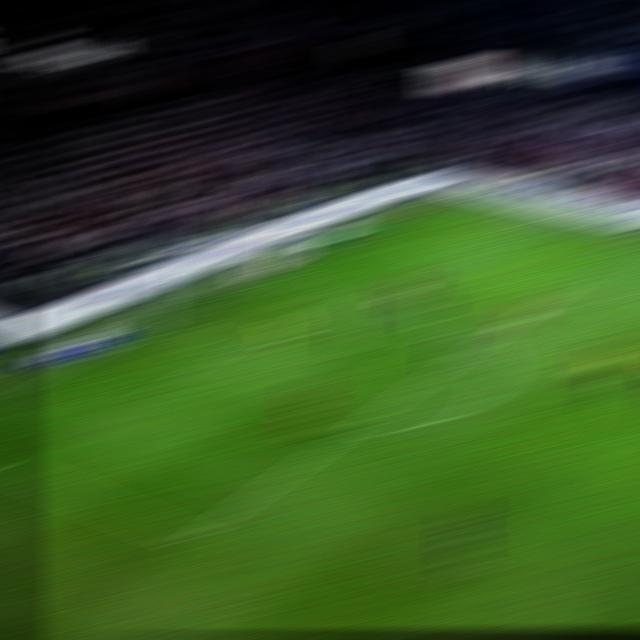bigarea_bottom_inner: (170, 525, 214, 551)
bigarea_top_inner: (545, 276, 588, 297)
bigarea_top_outter: (344, 232, 382, 242)
bottom_arc_area_intersection: (330, 419, 372, 441)
corner: (428, 193, 468, 203)
smallarea_bottom_inner: (141, 374, 182, 395)
smallarea_bottom_outter: (68, 355, 106, 367)
smallarea_top_inner: (321, 287, 360, 301)
smallarea_top_outter: (257, 268, 297, 283)
top_arc_area_intersection: (460, 333, 500, 355)
